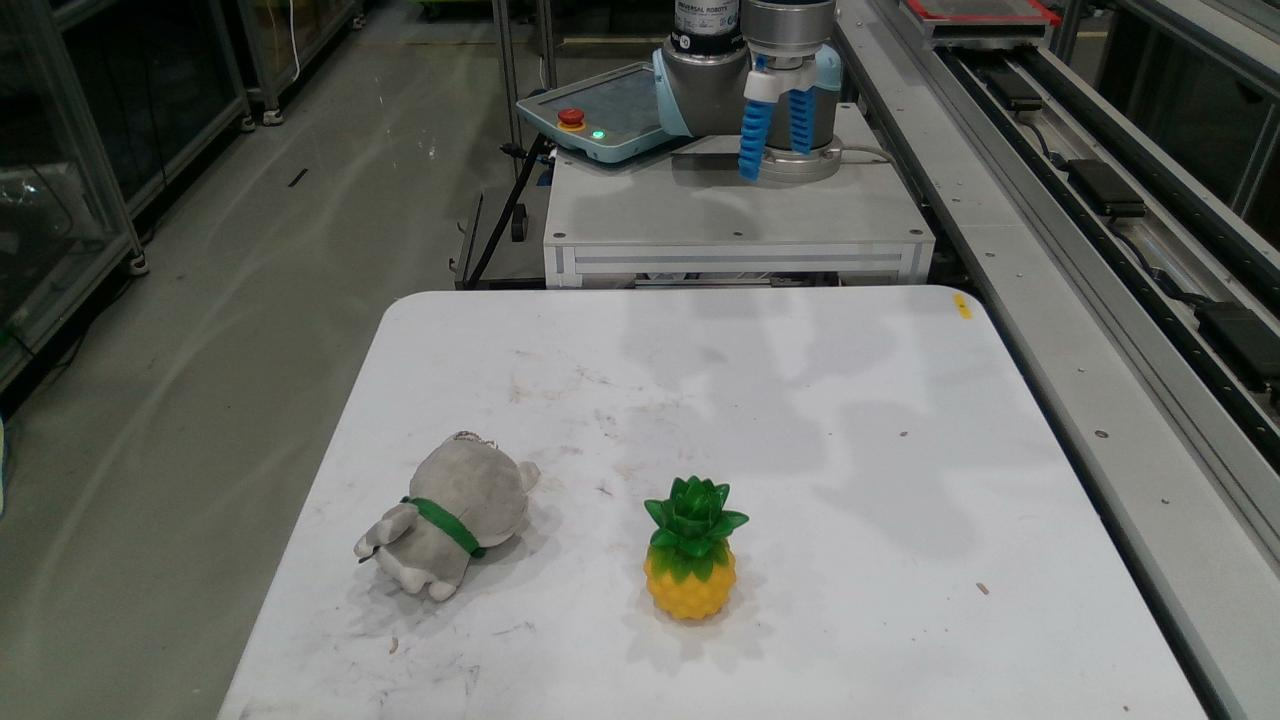UR5: (652, 0, 845, 183)
gripper_left: (739, 101, 776, 181)
gripper_right: (789, 86, 815, 156)
target: (355, 431, 543, 601), (644, 475, 751, 620)
